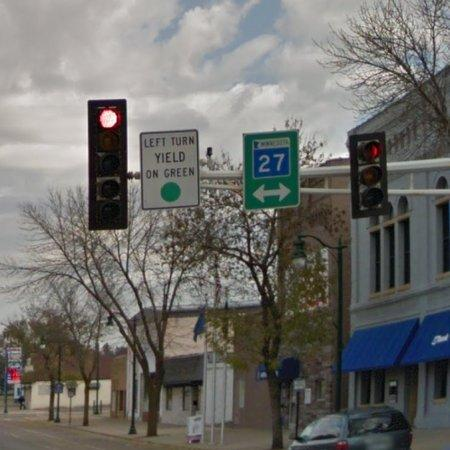traffic lights: (88, 99, 128, 230)
